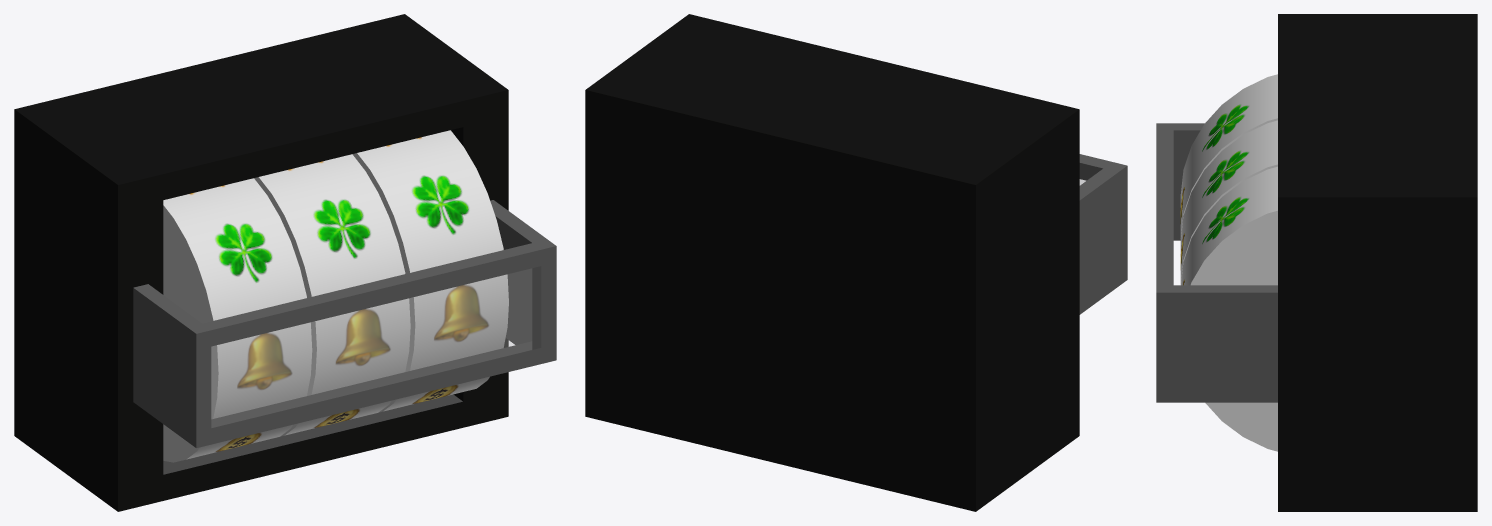
File: reels-box.glb
The picture shows the model from 3 angles, left to right: view 1: azimuth 30°, elevation 25°; view 2: azimuth 150°, elevation 25°; view 3: azimuth 270°, elevation 25°; orthographic projection. The views are drawn at different scales.
Visible parts, largest first — view 1: box, reel-1, reel-2, reel-3; view 2: box; view 3: box, reel-3, reel-2, reel-1.
Boxes of the visible parts, <box> form: box: <box>14,14,556,511</box>; reel-1: <box>163,178,312,462</box>; reel-2: <box>254,154,410,436</box>; reel-3: <box>352,130,508,412</box>; box: <box>585,14,1127,511</box>; box: <box>1156,14,1477,511</box>; reel-3: <box>1181,166,1277,451</box>; reel-2: <box>1180,120,1277,284</box>; reel-1: <box>1180,74,1277,239</box>.
Bounding box in the file's own units: 0.25 × 0.2 × 0.185.
Materials: 8 (1 with a texture image).
